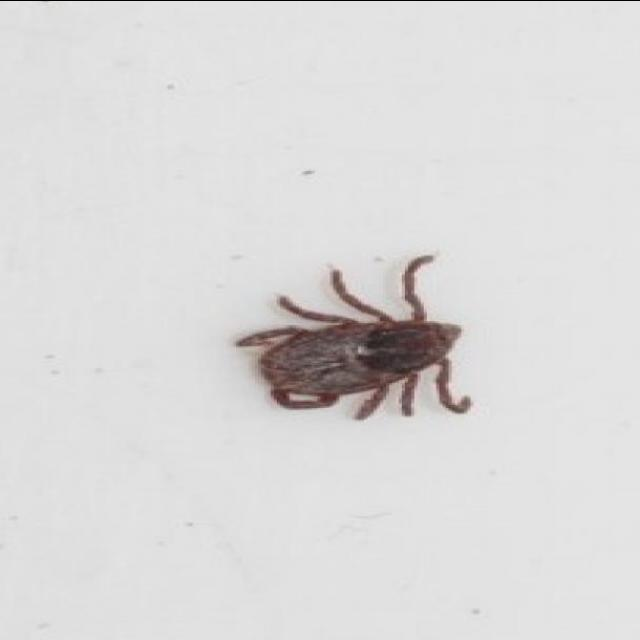Rhipicephalus Sanguineus-F: (236, 252, 474, 419)
